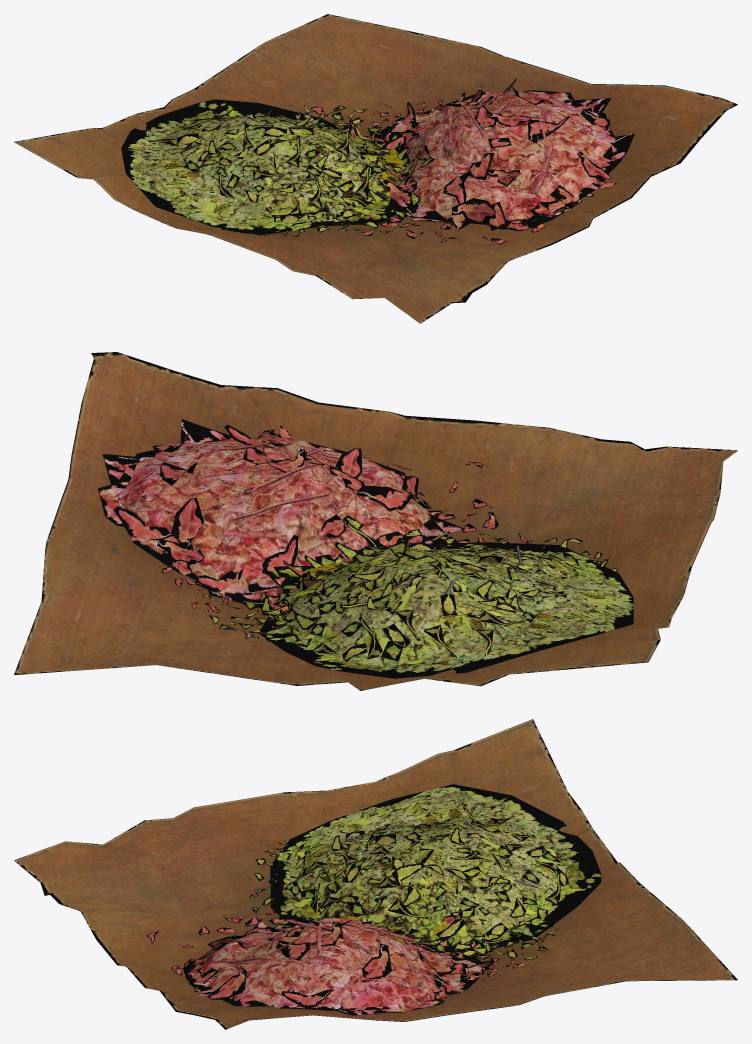
File: 005_GreenRed_Herb.fbx
3 renders of one model, top to bottom at view 1: azimuth 30°, elevation 25°; view 2: azimuth 150°, elevation 25°; view 3: azimuth 270°, elevation 25°, orthographic. The views are drawn at different scales.
Visible parts, largest first — view 1: LOD_1_Group_0_Sub_1__sm70_004_HerbsGG01A_Mat__Env_AlphaTest, LOD_1_Group_2_Sub_1__sm70_004_HerbsGG01A_Mat__Env_AlphaTest, LOD_1_Group_1_Sub_1__sm70_004_HerbsGG01A_Mat__Env_AlphaTest, LOD_1_Group_3_Sub_1__sm70_004_HerbsGG01A_mt; view 2: LOD_1_Group_0_Sub_1__sm70_004_HerbsGG01A_Mat__Env_AlphaTest, LOD_1_Group_2_Sub_1__sm70_004_HerbsGG01A_Mat__Env_AlphaTest, LOD_1_Group_1_Sub_1__sm70_004_HerbsGG01A_Mat__Env_AlphaTest, LOD_1_Group_3_Sub_1__sm70_004_HerbsGG01A_mt; view 3: LOD_1_Group_0_Sub_1__sm70_004_HerbsGG01A_Mat__Env_AlphaTest, LOD_1_Group_2_Sub_1__sm70_004_HerbsGG01A_Mat__Env_AlphaTest, LOD_1_Group_1_Sub_1__sm70_004_HerbsGG01A_Mat__Env_AlphaTest, LOD_1_Group_3_Sub_1__sm70_004_HerbsGG01A_mt.
Part boxes in pixels (x1,y1,x2,y2): LOD_1_Group_0_Sub_1__sm70_004_HerbsGG01A_Mat__Env_AlphaTest: (14,14,737,323); LOD_1_Group_2_Sub_1__sm70_004_HerbsGG01A_Mat__Env_AlphaTest: (121,99,434,236); LOD_1_Group_1_Sub_1__sm70_004_HerbsGG01A_Mat__Env_AlphaTest: (310,79,634,244); LOD_1_Group_3_Sub_1__sm70_004_HerbsGG01A_mt: (447,99,553,194); LOD_1_Group_0_Sub_1__sm70_004_HerbsGG01A_Mat__Env_AlphaTest: (14,352,737,690); LOD_1_Group_2_Sub_1__sm70_004_HerbsGG01A_Mat__Env_AlphaTest: (208,515,633,678); LOD_1_Group_1_Sub_1__sm70_004_HerbsGG01A_Mat__Env_AlphaTest: (98,419,531,638); LOD_1_Group_3_Sub_1__sm70_004_HerbsGG01A_mt: (204,430,340,519); LOD_1_Group_0_Sub_1__sm70_004_HerbsGG01A_Mat__Env_AlphaTest: (14,719,737,1029); LOD_1_Group_2_Sub_1__sm70_004_HerbsGG01A_Mat__Env_AlphaTest: (252,784,601,960); LOD_1_Group_1_Sub_1__sm70_004_HerbsGG01A_Mat__Env_AlphaTest: (147,891,555,1015); LOD_1_Group_3_Sub_1__sm70_004_HerbsGG01A_mt: (219,919,414,963).
Bounding box in the file's own units: 0.2897 × 0.0336 × 0.2866.
